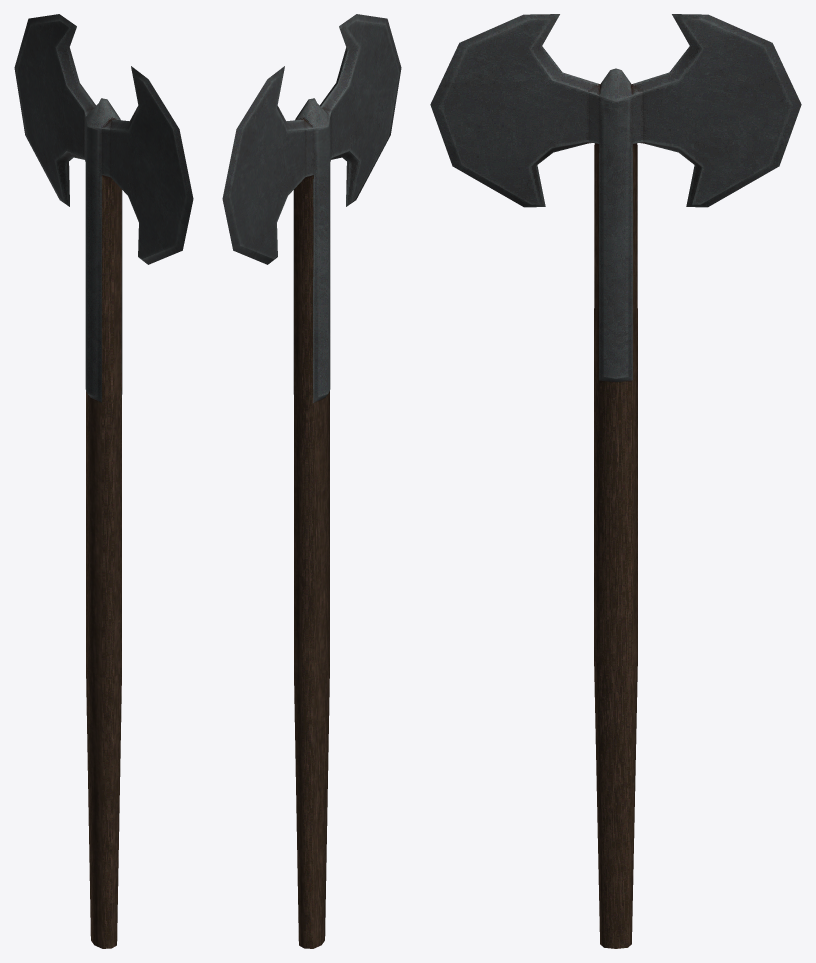
Rendered from double_axe.glb.
The picture shows the model from 3 angles, left to right: view 1: azimuth 30°, elevation 25°; view 2: azimuth 150°, elevation 25°; view 3: azimuth 270°, elevation 25°; orthographic projection. The views are drawn at different scales.
Parts seen in each view (by area): view 1: double_axe; view 2: double_axe; view 3: double_axe.
Part boxes in pixels (left/top/right/bottom): double_axe: left=14, top=14, right=193, bottom=948; double_axe: left=222, top=14, right=401, bottom=948; double_axe: left=430, top=14, right=801, bottom=948.
Bounding box in the file's own units: 0.0696 × 1.82 × 0.6588.
Materials: 1 (1 with a texture image).
